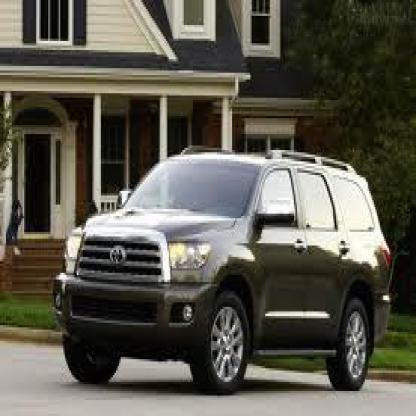Vehicle: (54, 141, 402, 400)
